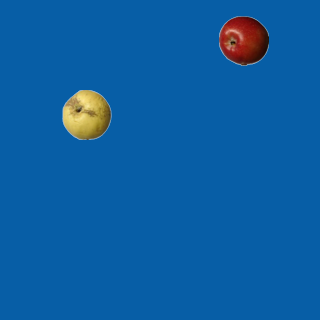Apple Braeburn: (218, 15, 268, 65)
Apple Golden 1: (61, 89, 111, 139)
